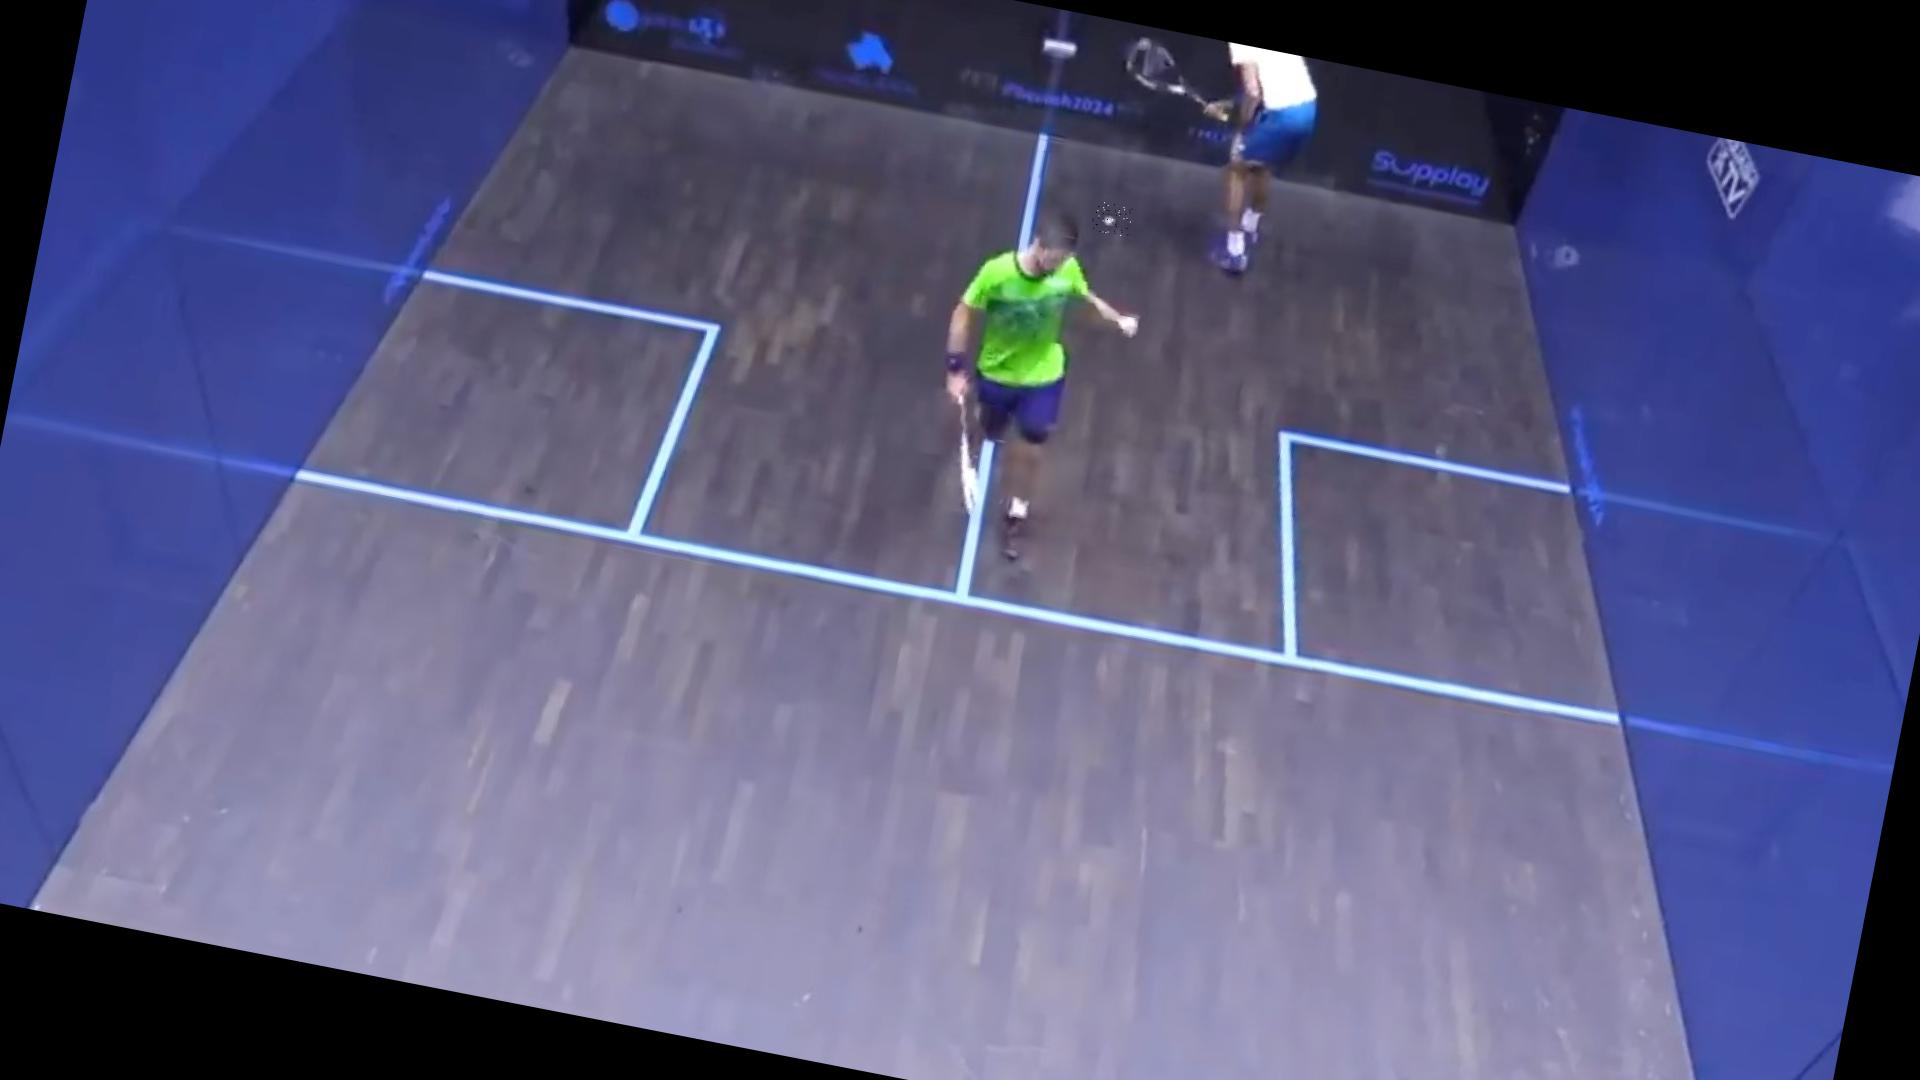Squash-Ball: (1091, 200, 1134, 237)
